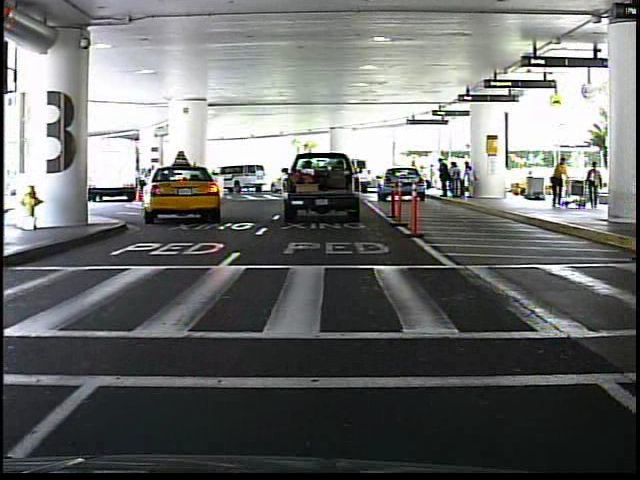person: (548, 154, 572, 212), (585, 159, 605, 212), (408, 159, 422, 192)
